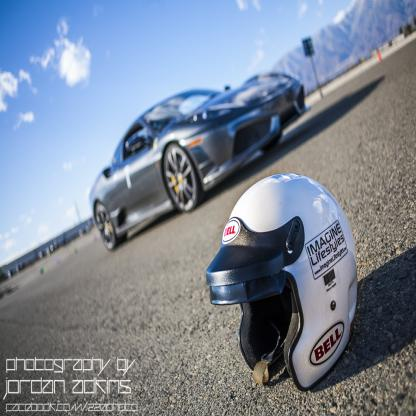Helmet: (205, 175, 361, 391)
